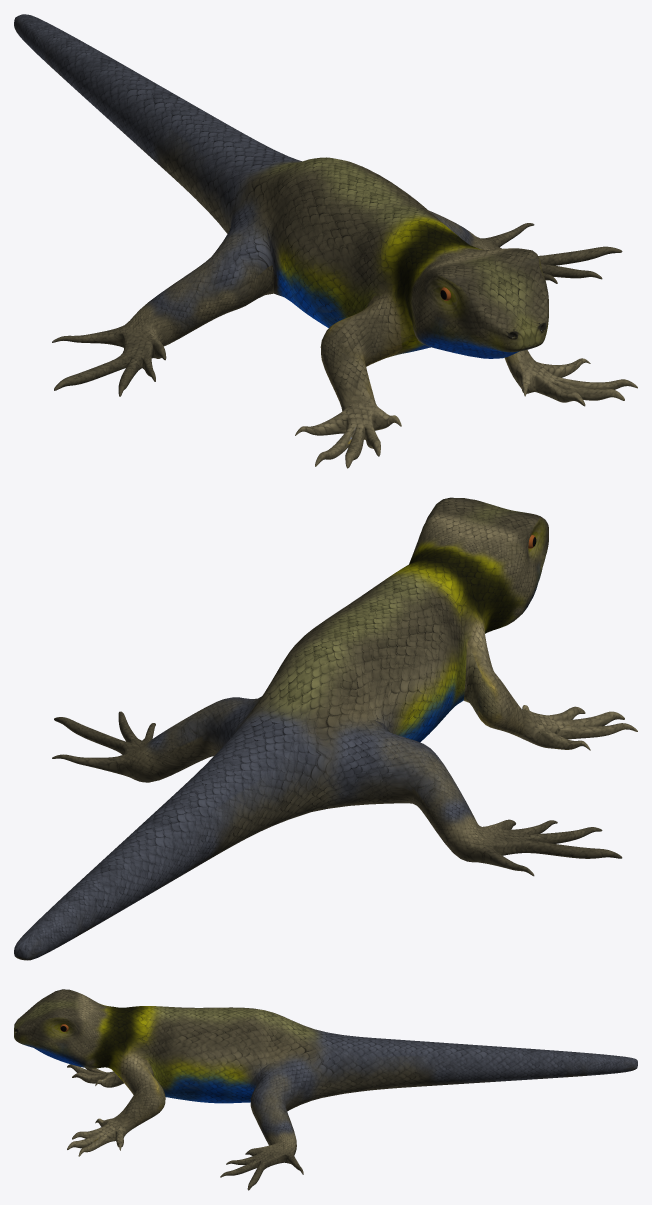
Rendered from Lagartija espinosa de collar.glb.
3 views of the same model, one above another, from view 1: azimuth 30°, elevation 25°; view 2: azimuth 150°, elevation 25°; view 3: azimuth 270°, elevation 25° (orthographic). The views are drawn at different scales.
Parts seen in each view (by area): view 1: Sceloporus torquatus; view 2: Sceloporus torquatus; view 3: Sceloporus torquatus.
Part boxes in pixels (<box>): Sceloporus torquatus: <box>14,14,637,468</box>; Sceloporus torquatus: <box>14,497,637,960</box>; Sceloporus torquatus: <box>14,989,637,1190</box>.
Size of the model in its own units: 6.87 by 2.05 by 10.67.
1 material, 1 textured.
